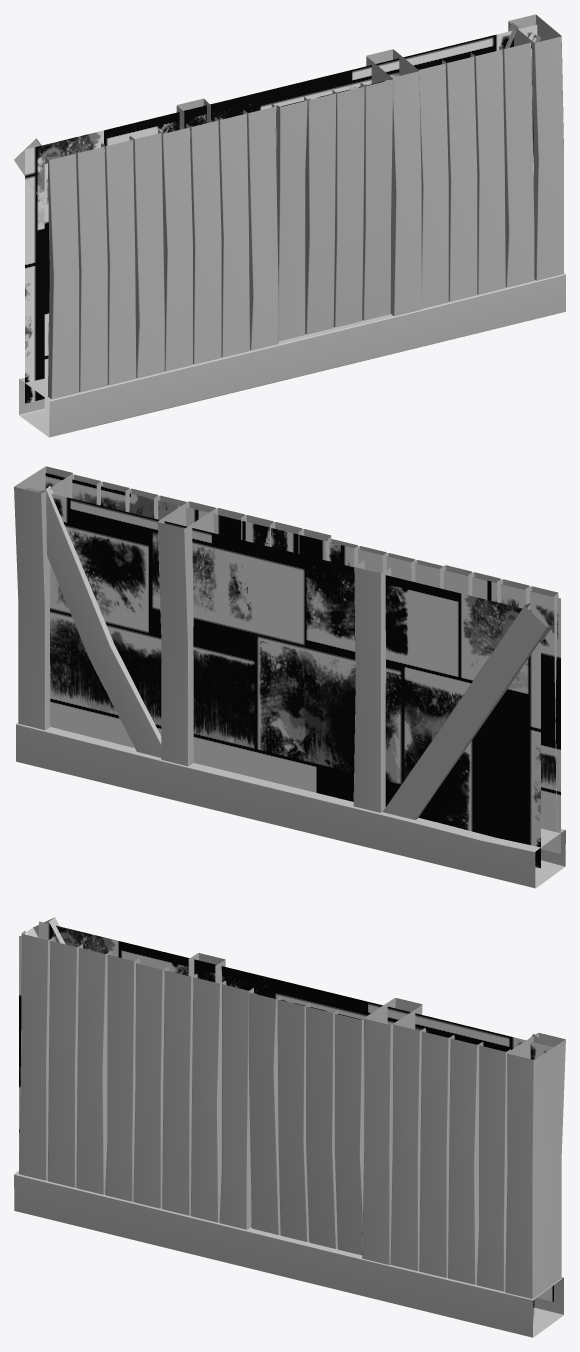
Rendered from SM_Wall02.fbx.
3 renders of one model, top to bottom at view 1: azimuth 30°, elevation 25°; view 2: azimuth 150°, elevation 25°; view 3: azimuth 330°, elevation 25°, orthographic.
Parts seen in each view (by area): view 1: SM_Wall02_LOD0; view 2: SM_Wall02_LOD0; view 3: SM_Wall02_LOD0.
Part boxes in pixels (<box>): SM_Wall02_LOD0: <box>14,14,565,437</box>; SM_Wall02_LOD0: <box>14,466,565,888</box>; SM_Wall02_LOD0: <box>14,917,565,1337</box>.
Size of the model in its own units: 309 by 31.98 by 154.
